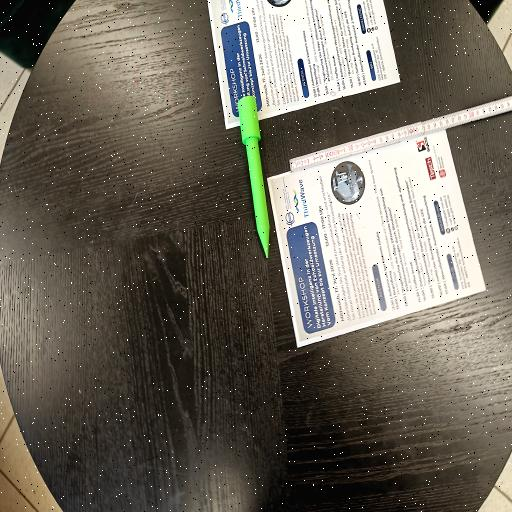Probe-Detection: (238, 96, 270, 258)
